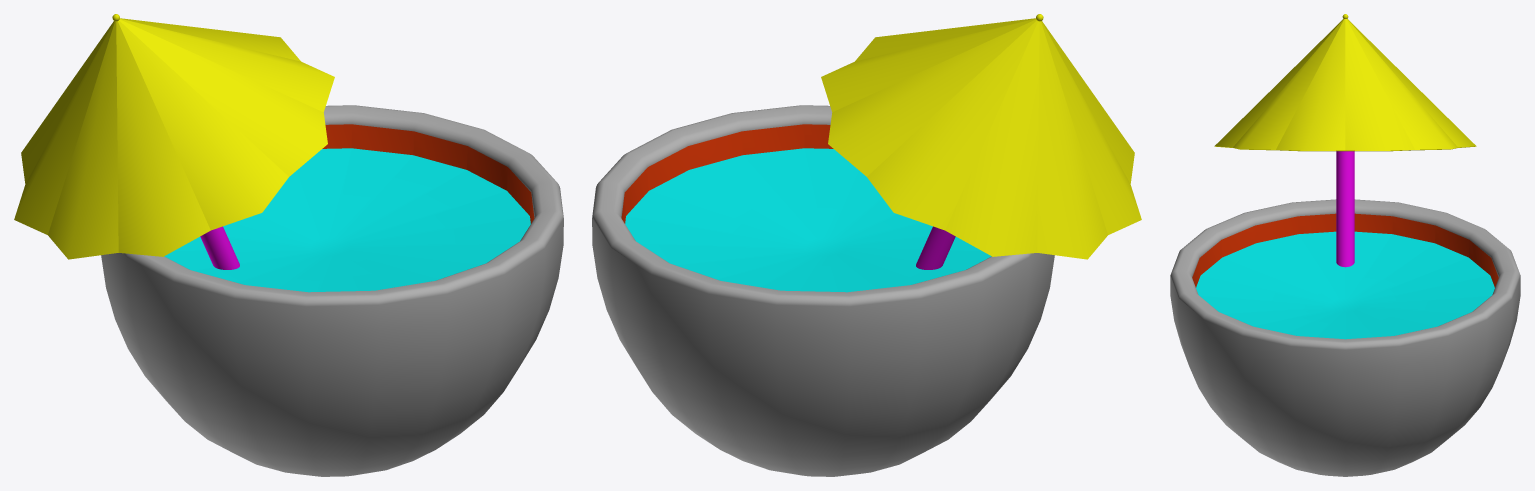
File: Coconut_Drink.fbx
The picture shows the model from 3 angles, left to right: view 1: azimuth 30°, elevation 25°; view 2: azimuth 150°, elevation 25°; view 3: azimuth 270°, elevation 25°; orthographic projection. The views are drawn at different scales.
Visible parts, largest first — view 1: Coconut, Top, Bottom; view 2: Coconut, Top, Bottom; view 3: Coconut, Top, Bottom.
Boxes of the visible parts, <box> form: Coconut: <box>101,105,563,476</box>; Top: <box>14,18,334,259</box>; Bottom: <box>200,226,239,269</box>; Coconut: <box>592,105,1054,476</box>; Top: <box>821,18,1141,259</box>; Bottom: <box>916,226,955,269</box>; Coconut: <box>1170,199,1520,476</box>; Top: <box>1214,19,1476,151</box>; Bottom: <box>1336,151,1354,267</box>.
Bounding box in the file's own units: 8.81 × 8.47 × 7.27.
